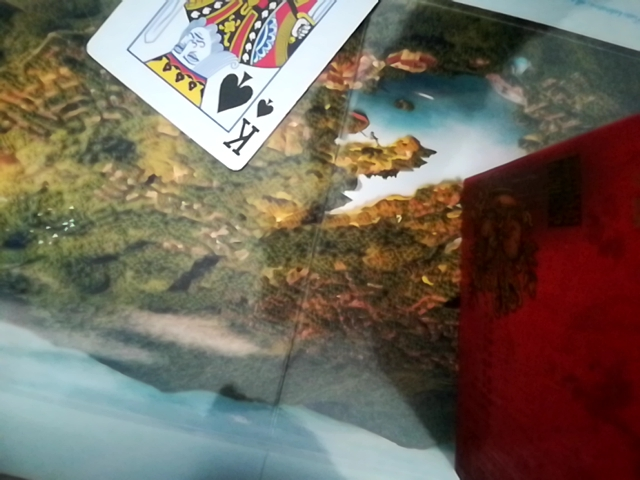ht k: (88, 0, 412, 172)
